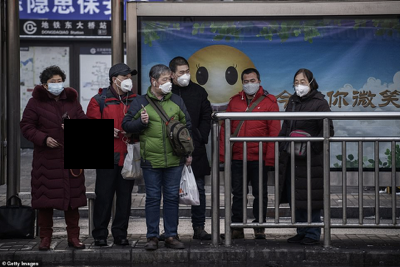with_mask: (46, 78, 65, 96), (294, 78, 311, 98), (243, 77, 260, 96), (157, 76, 173, 96), (175, 68, 191, 87), (118, 75, 134, 93)
